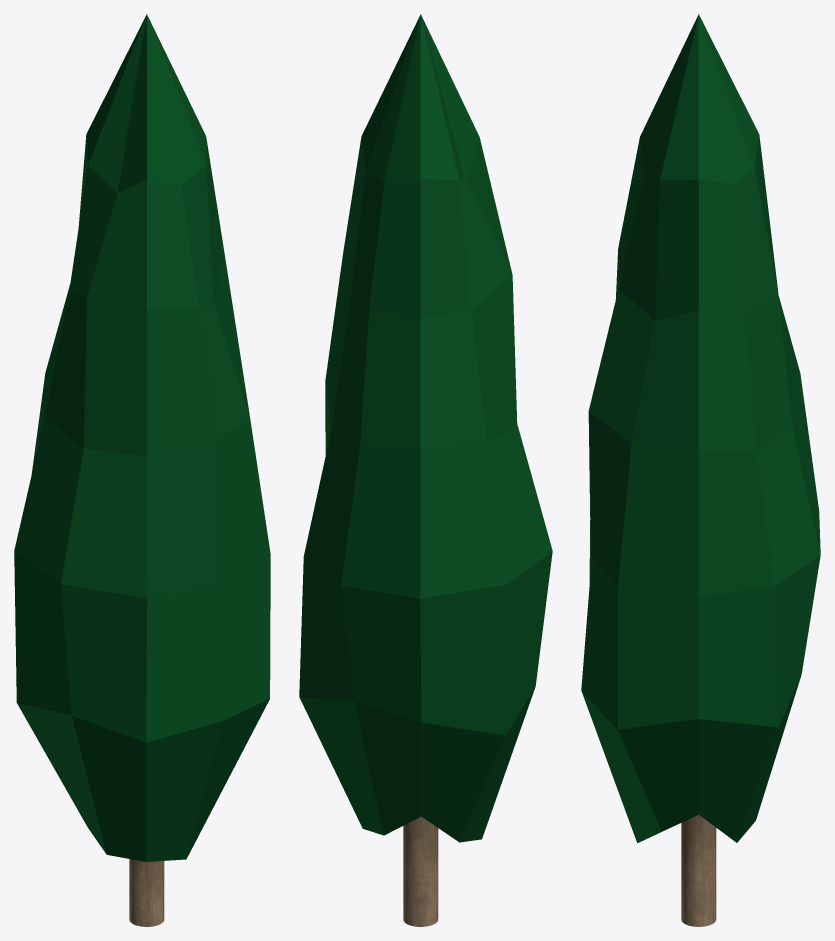
The model's file is CampTree4.fbx.
3 renders of one model, left to right at view 1: azimuth 30°, elevation 25°; view 2: azimuth 150°, elevation 25°; view 3: azimuth 270°, elevation 25°, orthographic.
Visible parts, largest first — view 1: CampTree4; view 2: CampTree4; view 3: CampTree4.
Part boxes in pixels (<box>): CampTree4: <box>14,14,270,926</box>; CampTree4: <box>299,14,552,926</box>; CampTree4: <box>581,14,820,926</box>.
Bounding box in the file's own units: 13.98 × 59.03 × 14.14.
